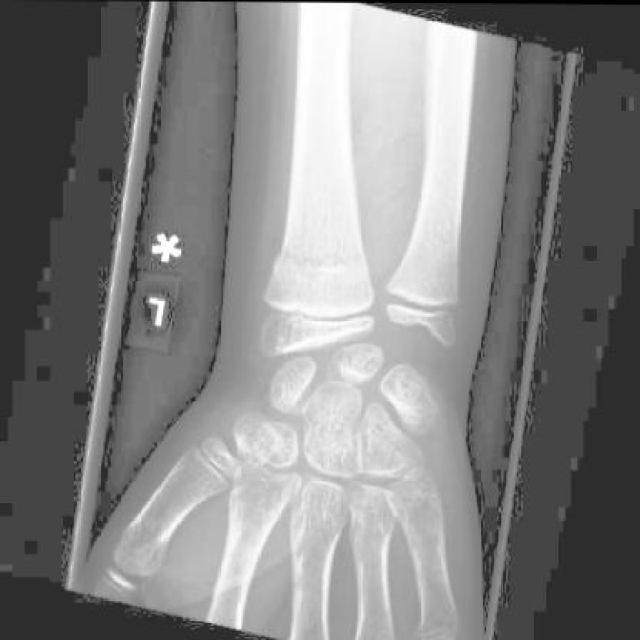Fracture: (266, 230, 377, 294)
